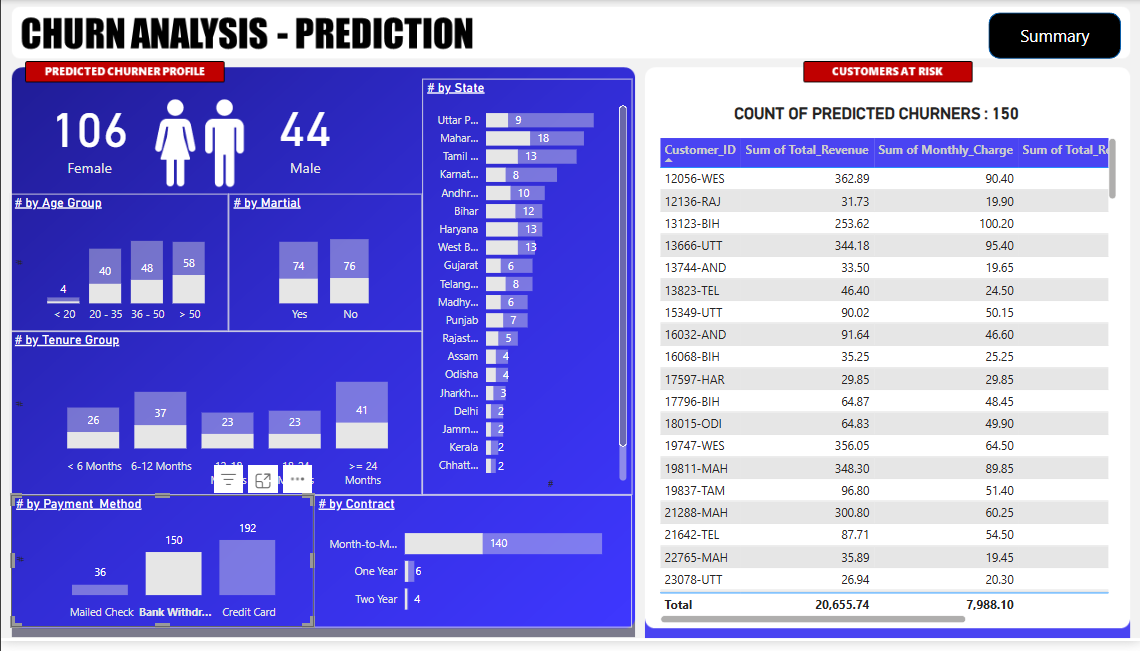

Layout of this report page (visuals, bound fields, positions):
{"tool":"powerbi","page":{"name":"Churn Prediction","canvas":[1280,720],"ordinal":2},"visuals":[{"type":"tableEx","fields":{"Values":["Predictions.Customer_ID","Sum(Predictions.Total_Revenue)","Sum(Predictions.Monthly_Charge)","Sum(Predictions.Total_Refunds)","Sum(Predictions.Number_of_Referrals)"]},"box":[734.2,150.2,523.6,554.5],"z":0},{"type":"card","fields":{"Values":["tbl_measures.Title Predicted Churners"]},"box":[708.9,105.3,548.9,44.9],"z":1000},{"type":"card","fields":{"Values":["tbl_measures.Count Predicted Churner"]},"box":[18.2,88.4,162.8,123.5],"z":1001},{"type":"card","fields":{"Values":["tbl_measures.Count Predicted Churner"]},"box":[255.5,92.7,172.7,113.7],"z":1002},{"type":"clusteredColumnChart","fields":{"Category":["mapping_AgeGrp.Age Group "],"Y":["CountNonNull(Predictions.Customer_ID)"]},"box":[9.8,217.6,245.7,154.4],"z":1003},{"type":"clusteredColumnChart","fields":{"Category":["mapping_TenureGrp.Tenure Group "],"Y":["CountNonNull(Predictions.Customer_ID)"]},"box":[9.8,372,463.3,183.9],"z":1004},{"type":"clusteredColumnChart","fields":{"Category":["Predictions.Married"],"Y":["CountNonNull(Predictions.Customer_ID)"]},"box":[255.5,217.6,217.6,154.4],"z":1005},{"type":"clusteredColumnChart","fields":{"Category":["Predictions.Payment_Method"],"Y":["CountNonNull(Predictions.Customer_ID)"]},"box":[11.2,555.9,339.7,148.8],"z":1006},{"type":"clusteredBarChart","fields":{"Category":["Predictions.Contract"],"Y":["CountNonNull(Predictions.Customer_ID)"]},"box":[351,555.9,358,148.8],"z":1007},{"type":"clusteredBarChart","fields":{"Category":["Predictions.State"],"Y":["CountNonNull(Predictions.Customer_ID)"]},"box":[473.1,88.4,235.8,467.5],"z":1008},{"type":"image","box":[151.6,92.7,141.8,134.8],"z":1009},{"type":"shape","box":[1109,14,148.8,51.9],"z":1010}]}

Visuals, with their boxes in screenshot pixels (x1, y1, x2, y2), scaled from the page's 1280x720 canvas onto the 1140x651 screenshot:
tableEx - Predictions.Customer_ID x Sum(Predictions.Total_Revenue): box(654, 136, 1120, 637)
card - tbl_measures.Title Predicted Churners: box(631, 95, 1120, 136)
card - tbl_measures.Count Predicted Churner: box(16, 80, 161, 192)
card - tbl_measures.Count Predicted Churner: box(228, 84, 381, 187)
clusteredColumnChart - mapping_AgeGrp.Age Group  x CountNonNull(Predictions.Customer_ID): box(9, 197, 228, 336)
clusteredColumnChart - mapping_TenureGrp.Tenure Group  x CountNonNull(Predictions.Customer_ID): box(9, 336, 421, 503)
clusteredColumnChart - Predictions.Married x CountNonNull(Predictions.Customer_ID): box(228, 197, 421, 336)
clusteredColumnChart - Predictions.Payment_Method x CountNonNull(Predictions.Customer_ID): box(10, 503, 313, 637)
clusteredBarChart - Predictions.Contract x CountNonNull(Predictions.Customer_ID): box(313, 503, 631, 637)
clusteredBarChart - Predictions.State x CountNonNull(Predictions.Customer_ID): box(421, 80, 631, 503)
image: box(135, 84, 261, 206)
shape: box(988, 13, 1120, 60)
